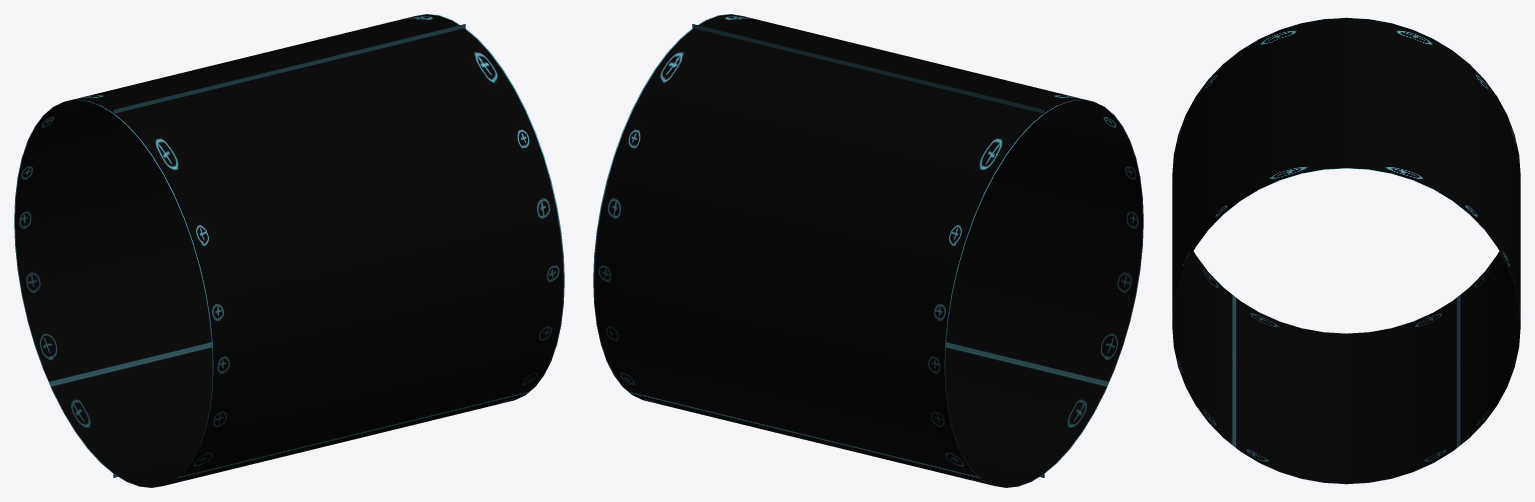
3 views of the same model, side by side, from view 1: azimuth 30°, elevation 25°; view 2: azimuth 150°, elevation 25°; view 3: azimuth 270°, elevation 25° (orthographic). The views are drawn at different scales.
Parts seen in each view (by area): view 1: Tube_1, Tube; view 2: Tube, Tube_1; view 3: Tube_1, Tube.
Part boxes in pixels (x1,y1,x2,y2): Tube_1: [113, 24, 564, 487]; Tube: [14, 14, 459, 473]; Tube: [593, 28, 1043, 487]; Tube_1: [692, 14, 1143, 477]; Tube_1: [1172, 17, 1346, 484]; Tube: [1346, 17, 1520, 484].
Size of the model in its own units: 130 by 130 by 127.
1 material, 1 textured.
